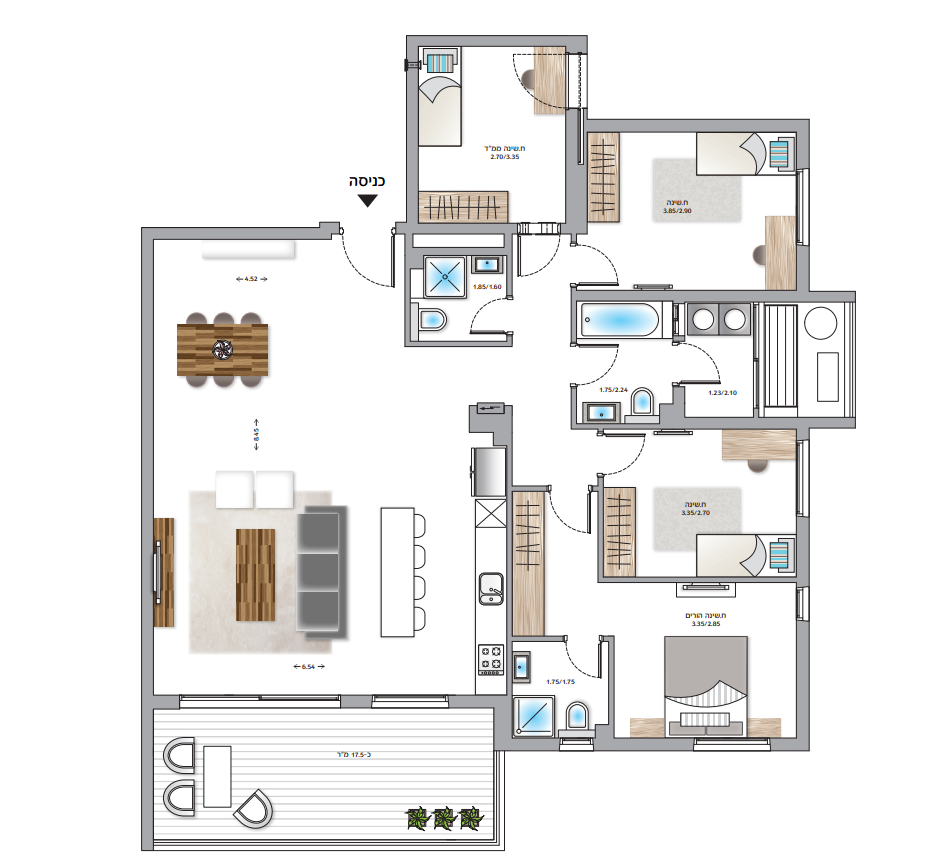door: (339, 238, 399, 296), (580, 241, 627, 289), (581, 341, 627, 384), (687, 341, 730, 387), (515, 241, 562, 282), (466, 294, 507, 338), (548, 499, 594, 538), (610, 432, 651, 475), (560, 643, 605, 682)
wall: (141, 232, 154, 660), (590, 119, 797, 130), (405, 69, 418, 229), (152, 228, 318, 238), (588, 293, 839, 299), (798, 628, 809, 746), (604, 740, 688, 748), (496, 699, 510, 746)
window: (179, 690, 341, 704), (372, 691, 448, 704), (794, 168, 806, 245), (795, 439, 804, 517), (694, 737, 771, 746), (792, 586, 805, 621), (559, 736, 594, 745)
